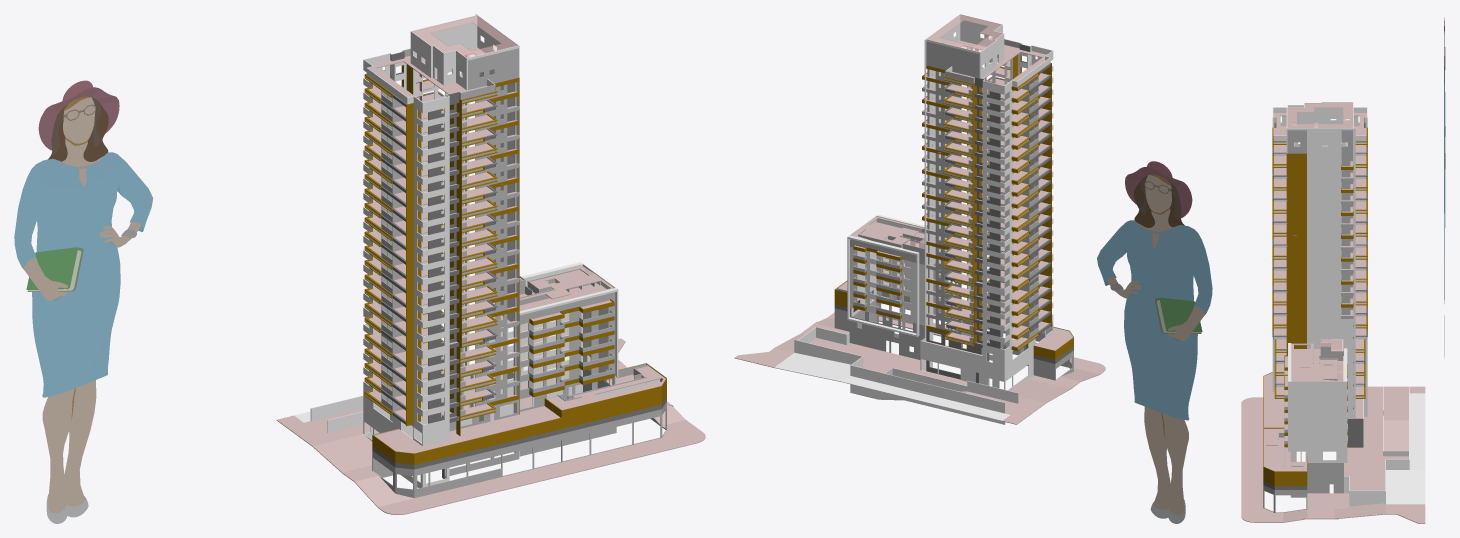
File: ArchBoaVista3D3.glb
3 views of the same model, side by side, from view 1: azimuth 30°, elevation 25°; view 2: azimuth 150°, elevation 25°; view 3: azimuth 270°, elevation 25° (orthographic). The views are drawn at different scales.
Visible parts, largest first — view 1: 3DGeom-1, 3DGeom-2, 3DGeom-6, 3DGeom-3, 3DGeom-13, 3DGeom-4, 3DGeom-14, 3DGeom-16, 3DGeom-7, 3DGeom-8, 3DGeom-18, 3DGeom-9; view 2: 3DGeom-2, 3DGeom-1, 3DGeom-6, 3DGeom-13, 3DGeom-3, 3DGeom-4, 3DGeom-14, 3DGeom-16, 3DGeom-7, 3DGeom-8, 3DGeom-18, 3DGeom-9; view 3: 3DGeom-2, 3DGeom-6, 3DGeom-3, 3DGeom-1, 3DGeom-4, 3DGeom-7, 3DGeom-13.
Part boxes in pixels (box(x1,y1,x2,y2)): 3DGeom-1: box(366, 48, 666, 498); 3DGeom-2: box(294, 14, 659, 488); 3DGeom-6: box(276, 47, 705, 514); 3DGeom-3: box(364, 64, 666, 464); 3DGeom-13: box(14, 160, 152, 397); 3DGeom-4: box(372, 51, 666, 478); 3DGeom-14: box(23, 97, 141, 513); 3DGeom-16: box(27, 152, 152, 365); 3DGeom-7: box(412, 15, 522, 280); 3DGeom-8: box(26, 247, 83, 289); 3DGeom-18: box(48, 105, 108, 161); 3DGeom-9: box(38, 88, 119, 150); 3DGeom-2: box(774, 14, 1053, 424); 3DGeom-1: box(834, 36, 1073, 380); 3DGeom-6: box(734, 40, 1105, 424); 3DGeom-13: box(1097, 227, 1212, 420); 3DGeom-3: box(834, 54, 1073, 359); 3DGeom-4: box(834, 44, 1073, 385); 3DGeom-14: box(1106, 175, 1204, 515); 3DGeom-16: box(1097, 220, 1201, 394); 3DGeom-7: box(905, 14, 1002, 248); 3DGeom-8: box(1155, 297, 1202, 331); 3DGeom-18: box(1134, 181, 1184, 227); 3DGeom-9: box(1125, 168, 1192, 218); 3DGeom-2: box(1272, 102, 1425, 506); 3DGeom-6: box(1241, 113, 1425, 523); 3DGeom-3: box(1263, 127, 1367, 486); 3DGeom-1: box(1263, 122, 1366, 512); 3DGeom-4: box(1263, 117, 1367, 489); 3DGeom-7: box(1287, 102, 1352, 351); 3DGeom-13: box(1444, 73, 1445, 261).
Bounding box in the file's own units: 2.51 × 1.86 × 0.9326.
